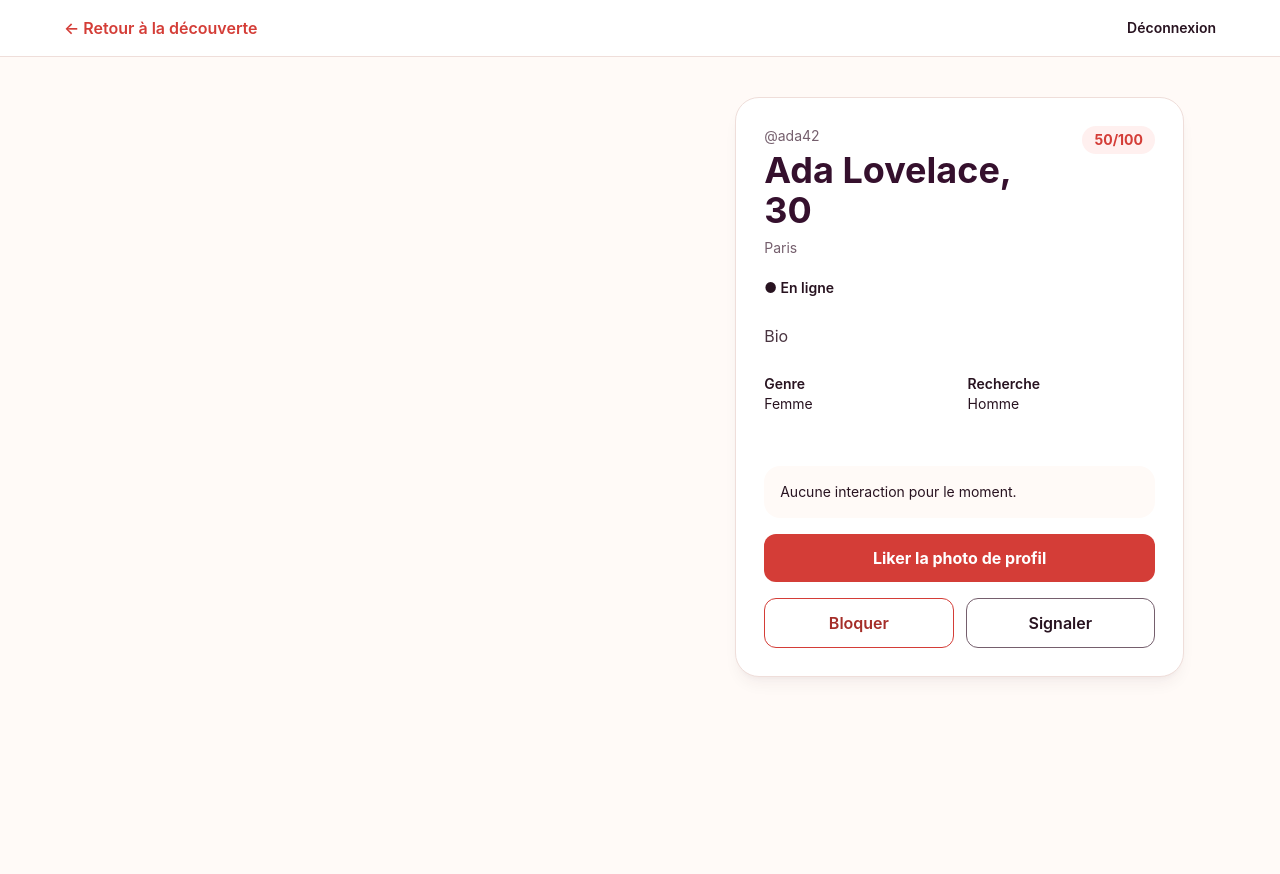
Test case: authentication experience › submits a controlled profile report
The image size is (1280, 874).
Click the button "Signaler" at (1060, 623), box [966,598,1155,648]
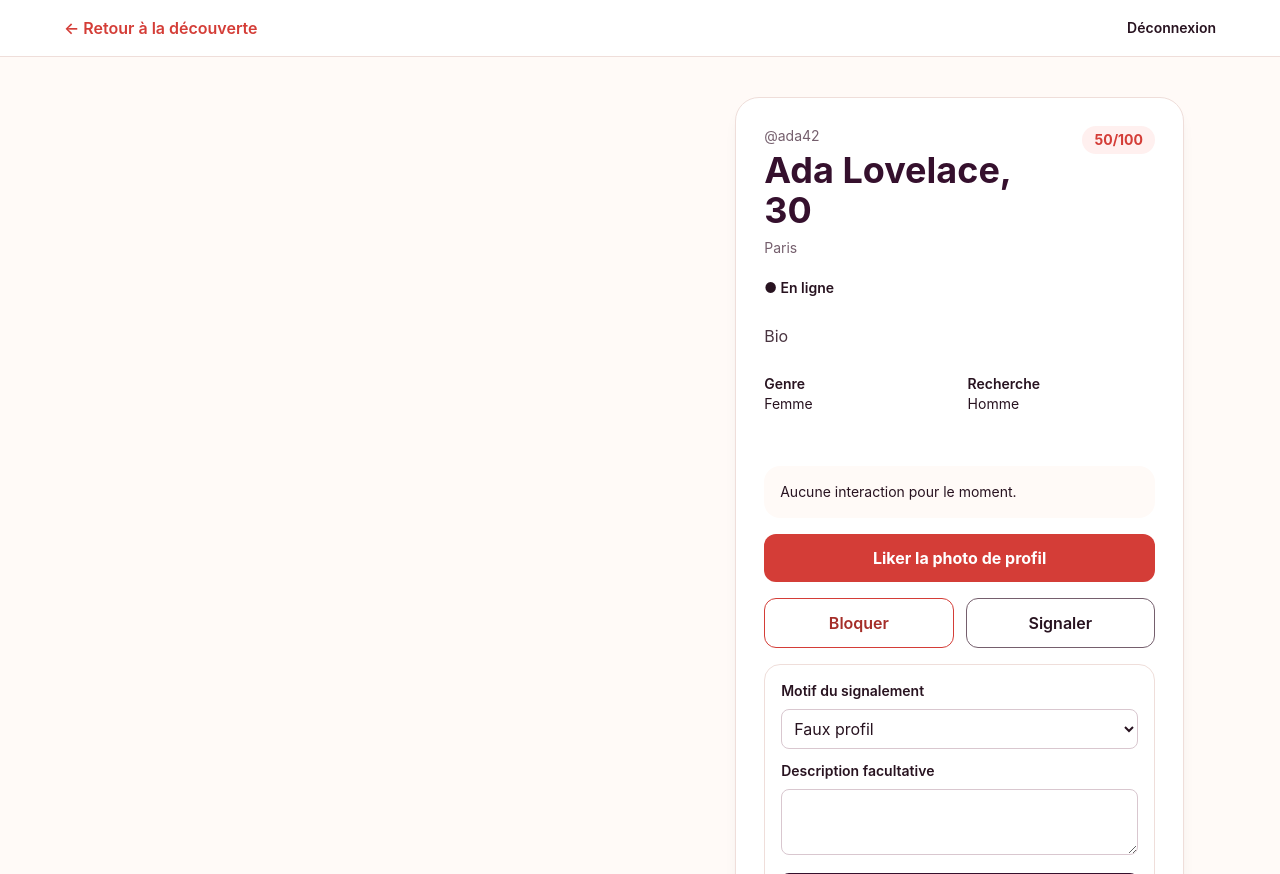
Select "Spam" in the dropdown labelled "Motif du signalement" at (960, 729), box [781,709,1138,749]
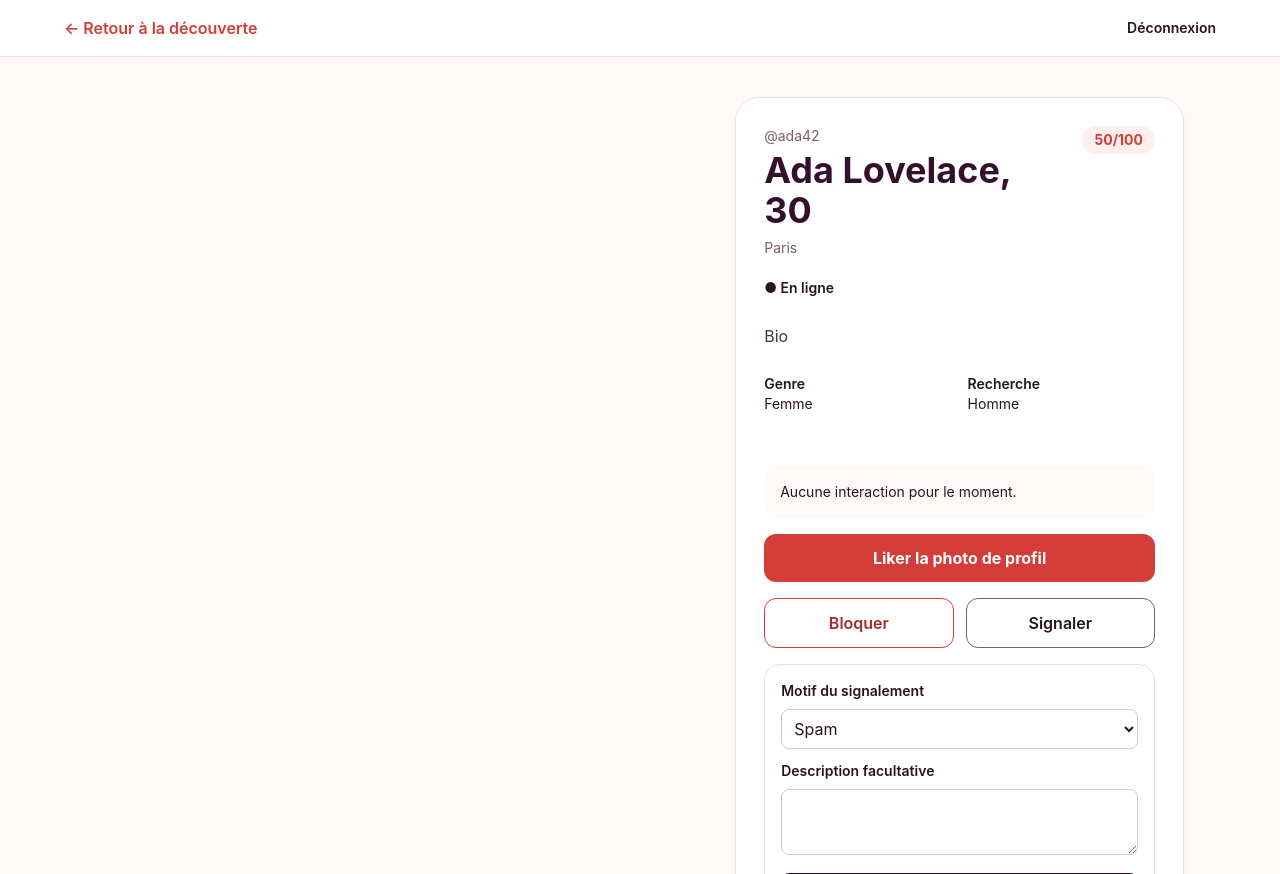
Type "Messages répétés" into the text box labelled "Description facultative" at (960, 822), box [781,789,1138,855]
(page scrolled)
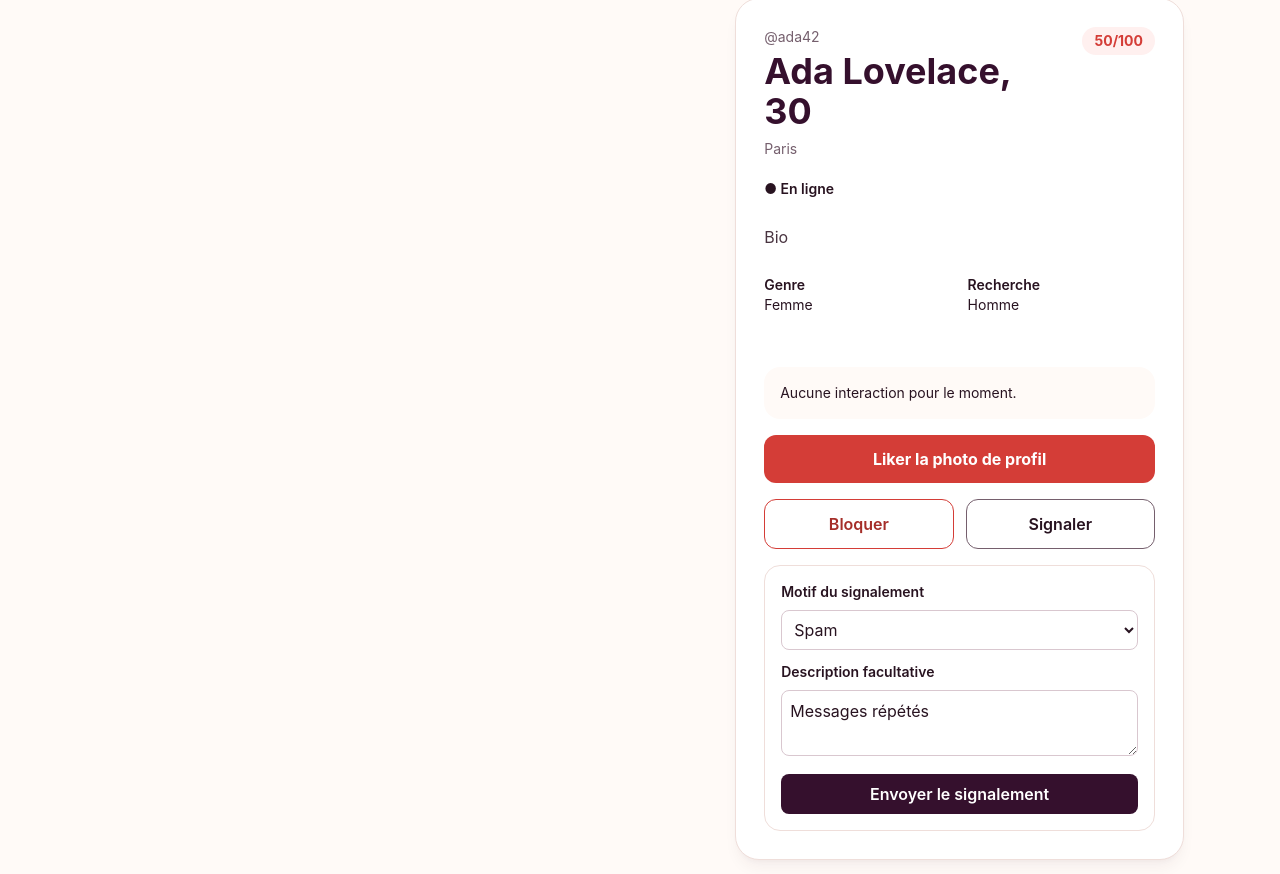
Click the button "Envoyer le signalement" at (960, 794), box [781,774,1138,814]
(page scrolled)
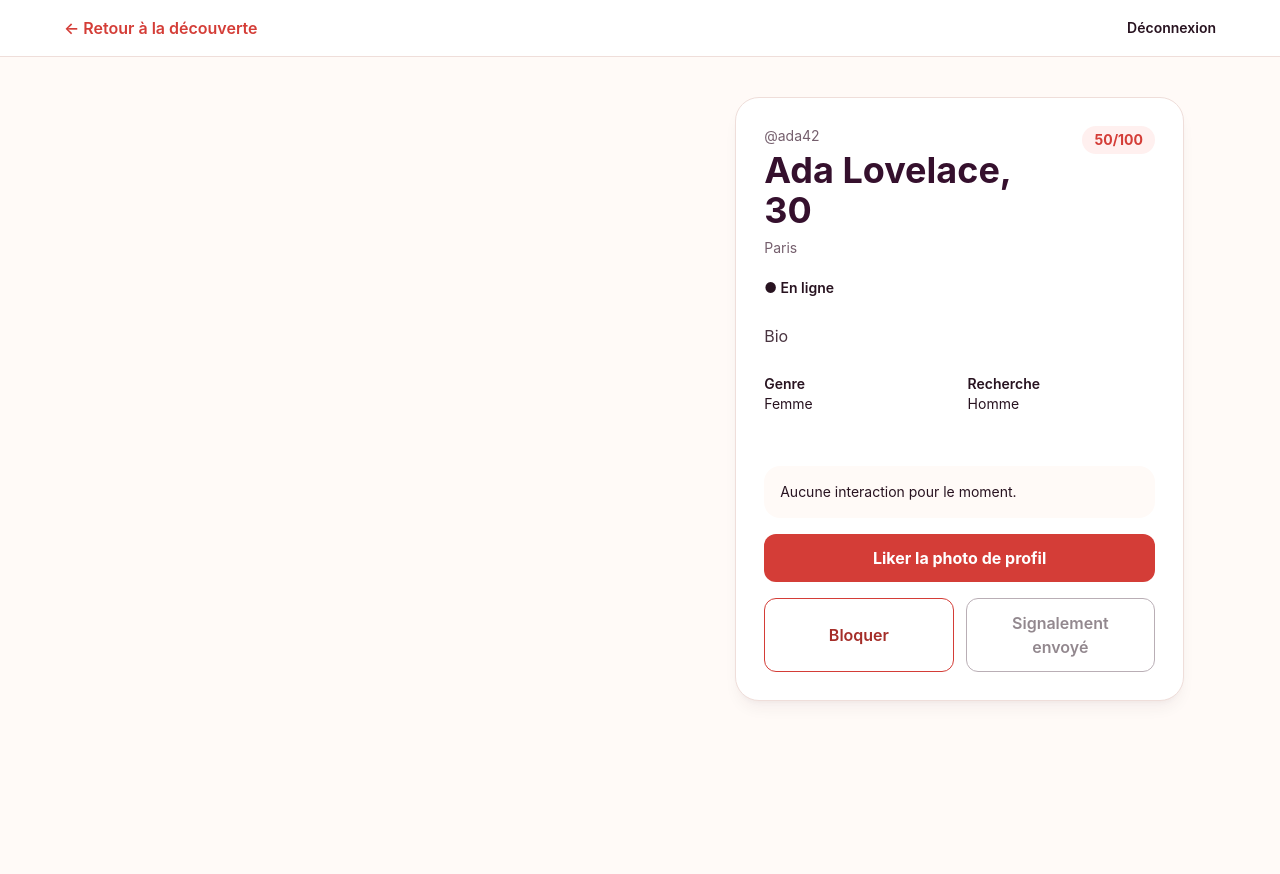
Check: the button "Signalement envoyé" is disabled, box [966,598,1155,672]
